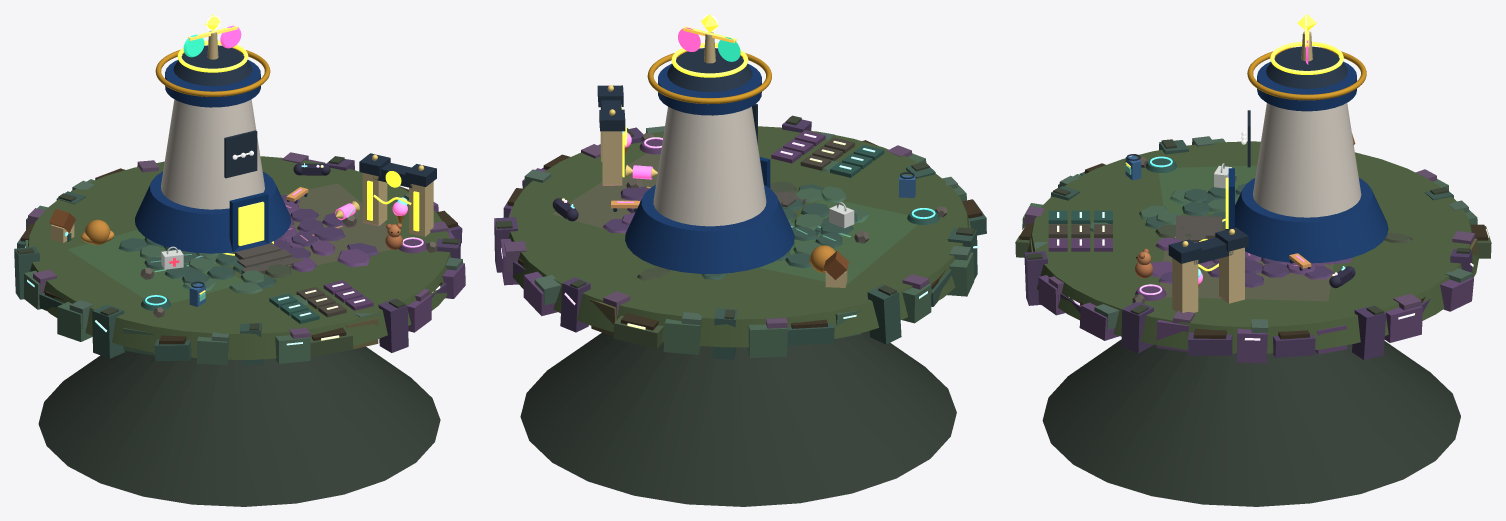
Rendered from island-01-needs-wants__static.glb.
3 views of the same model, side by side, from view 1: azimuth 30°, elevation 25°; view 2: azimuth 150°, elevation 25°; view 3: azimuth 270°, elevation 25° (orthographic). The views are drawn at different scales.
Parts seen in each view (by area): view 1: M01_BASE, M01_NEEDS_WANTS_SURFACE, M01_TOWER, M01_EDGE_ROCKS, M01_STONE_PLAZA, M01_PORTAL, M01_NEED_OBJECTS, M01_DECISION_PAD, M01_WANT_OBJECTS; view 2: M01_BASE, M01_NEEDS_WANTS_SURFACE, M01_TOWER, M01_EDGE_ROCKS, M01_STONE_PLAZA, M01_DECISION_PAD, M01_NEED_OBJECTS, M01_PORTAL, M01_WANT_OBJECTS; view 3: M01_BASE, M01_NEEDS_WANTS_SURFACE, M01_TOWER, M01_EDGE_ROCKS, M01_PORTAL, M01_STONE_PLAZA, M01_DECISION_PAD, M01_WANT_OBJECTS, M01_NEED_OBJECTS.
Boxes of the visible parts, x1,y1,x2,y2 form: M01_BASE: [38, 346, 440, 506]; M01_NEEDS_WANTS_SURFACE: [28, 156, 451, 359]; M01_TOWER: [135, 14, 303, 274]; M01_EDGE_ROCKS: [14, 152, 465, 365]; M01_STONE_PLAZA: [118, 200, 345, 284]; M01_PORTAL: [359, 153, 436, 236]; M01_NEED_OBJECTS: [49, 209, 205, 310]; M01_DECISION_PAD: [269, 280, 373, 323]; M01_WANT_OBJECTS: [286, 163, 426, 253]; M01_BASE: [520, 331, 956, 506]; M01_NEEDS_WANTS_SURFACE: [508, 126, 971, 347]; M01_TOWER: [625, 14, 806, 273]; M01_EDGE_ROCKS: [494, 115, 986, 359]; M01_STONE_PLAZA: [620, 181, 857, 268]; M01_DECISION_PAD: [771, 130, 884, 177]; M01_NEED_OBJECTS: [809, 172, 939, 287]; M01_PORTAL: [597, 85, 627, 185]; M01_WANT_OBJECTS: [552, 131, 662, 221]; M01_BASE: [1042, 339, 1460, 506]; M01_NEEDS_WANTS_SURFACE: [1027, 141, 1478, 353]; M01_TOWER: [1176, 14, 1388, 263]; M01_EDGE_ROCKS: [1015, 136, 1491, 363]; M01_PORTAL: [1168, 227, 1248, 312]; M01_STONE_PLAZA: [1155, 183, 1316, 287]; M01_DECISION_PAD: [1048, 210, 1112, 251]; M01_WANT_OBJECTS: [1135, 248, 1355, 300]; M01_NEED_OBJECTS: [1125, 133, 1355, 188].
Size of the model in its own units: 8.93 by 8.48 by 9.05.
